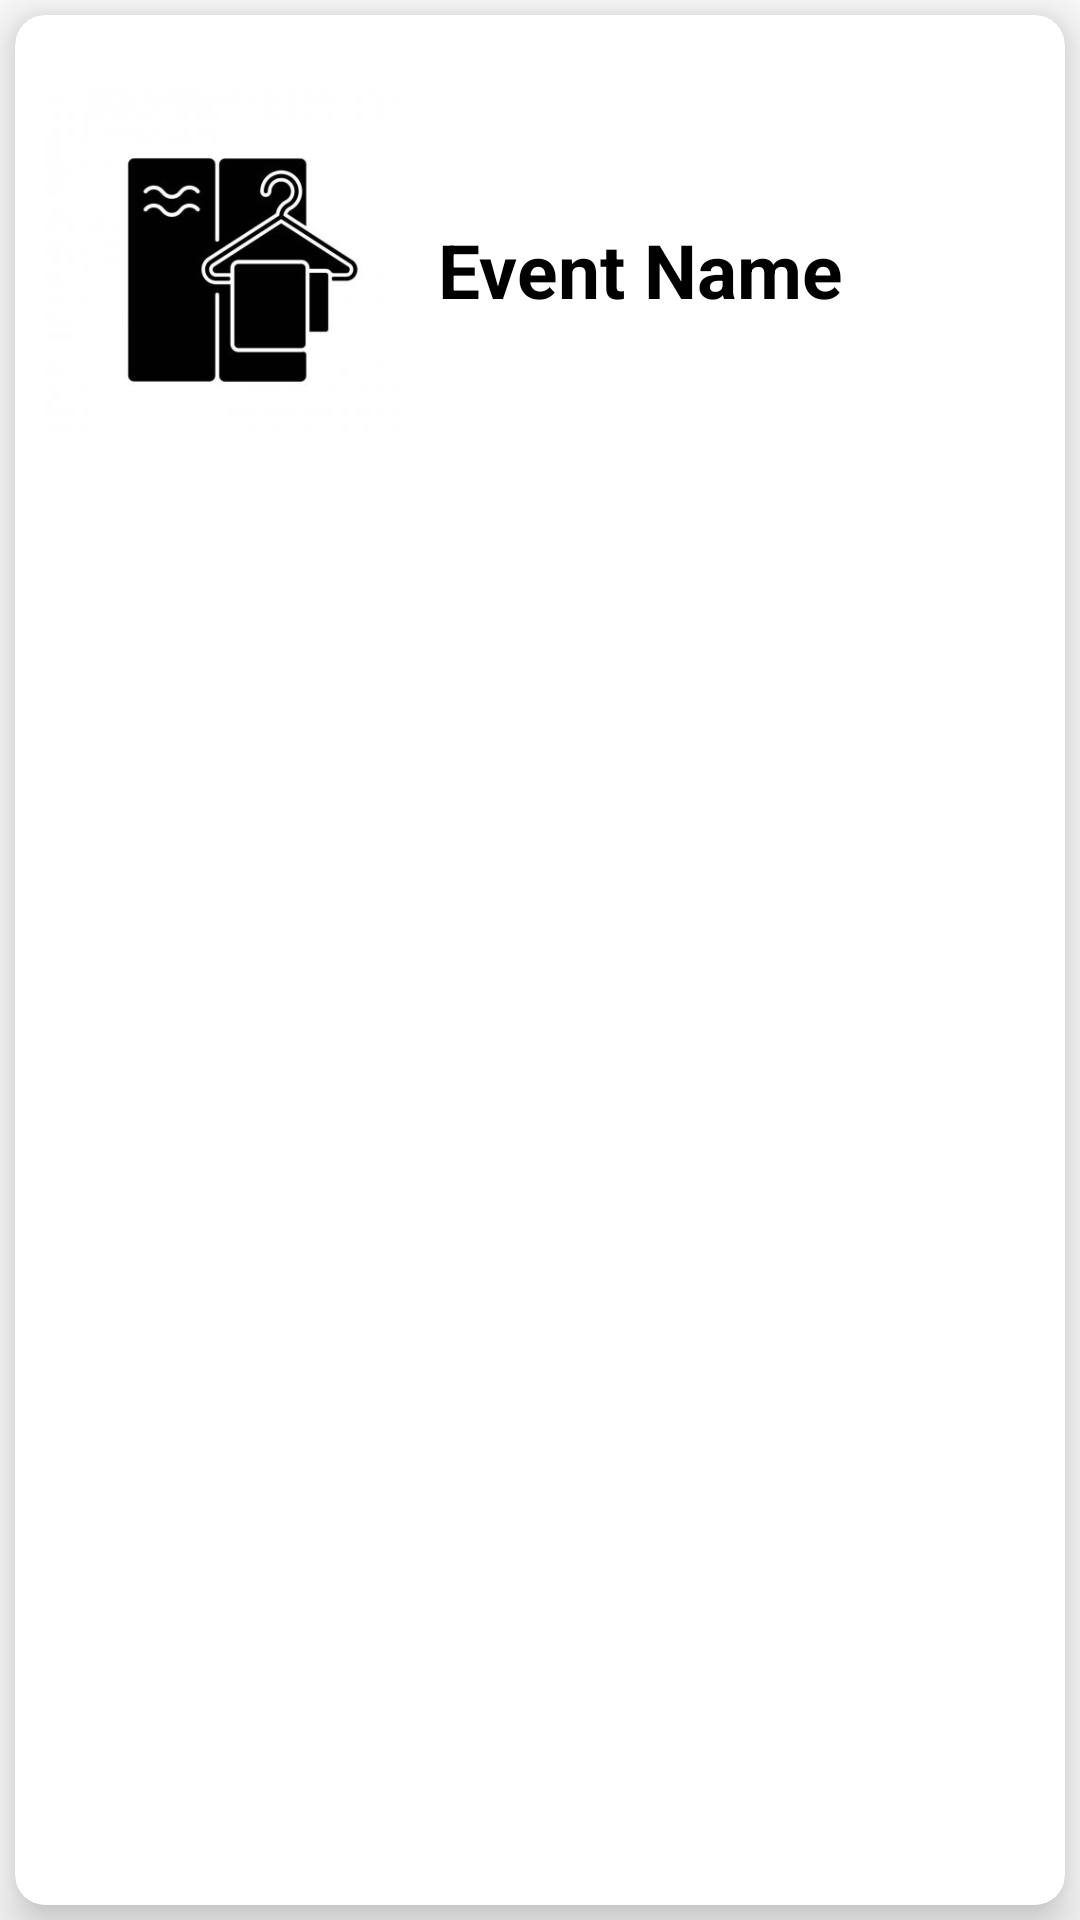

Named icons in this screenshot (1080x1920) and their bounding boxes, bbox=(x1, y1, x2, y2):
cabin: bbox=(127, 158, 358, 382)
